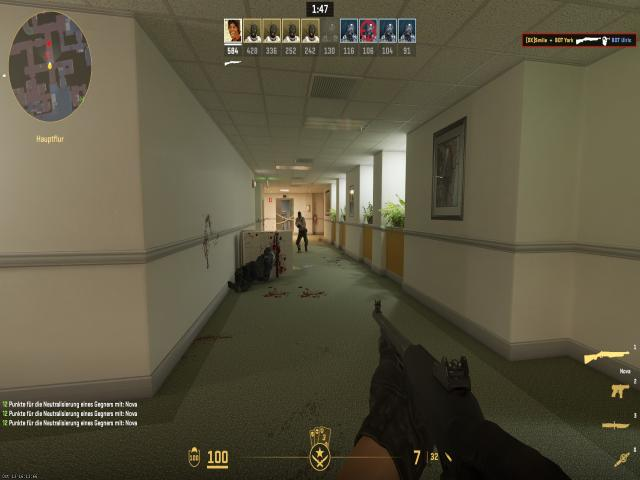Dead: (227, 247, 280, 288)
T: (293, 210, 309, 250)
T-Head: (297, 210, 302, 219)
